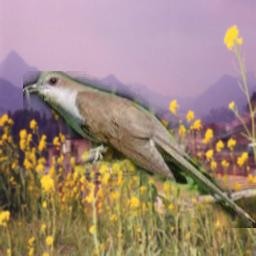Cuckoo: (23, 71, 256, 228)
